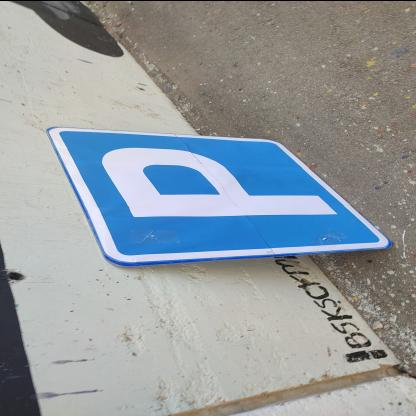Parking-Sign: (48, 126, 404, 269)
